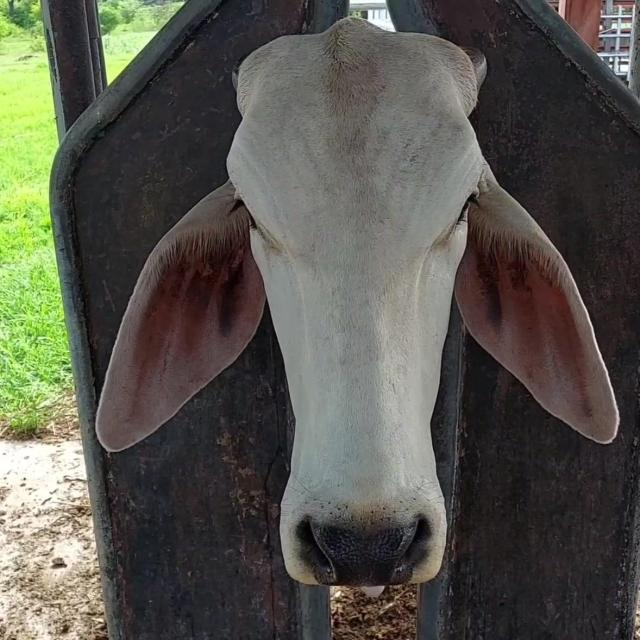cowFace: (238, 34, 480, 581)
